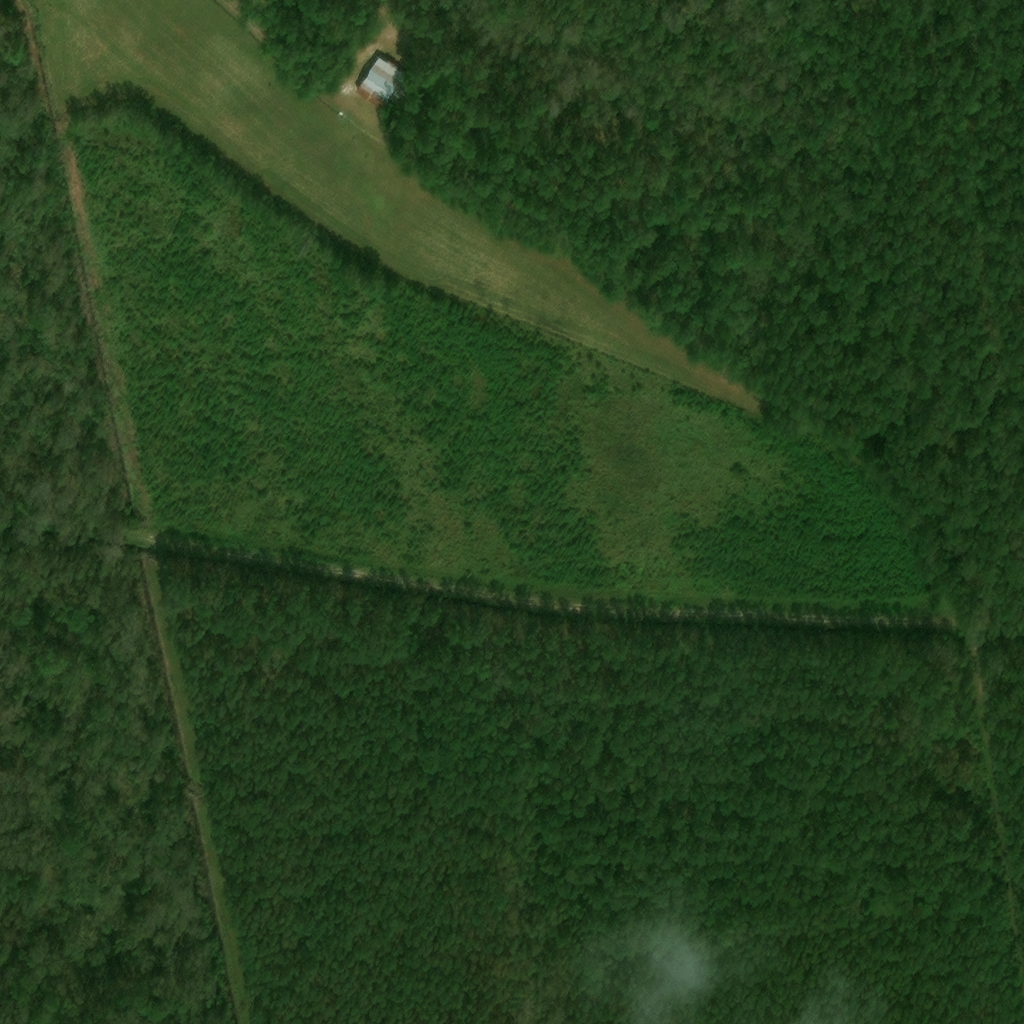no_damage: (355, 58, 404, 109)
